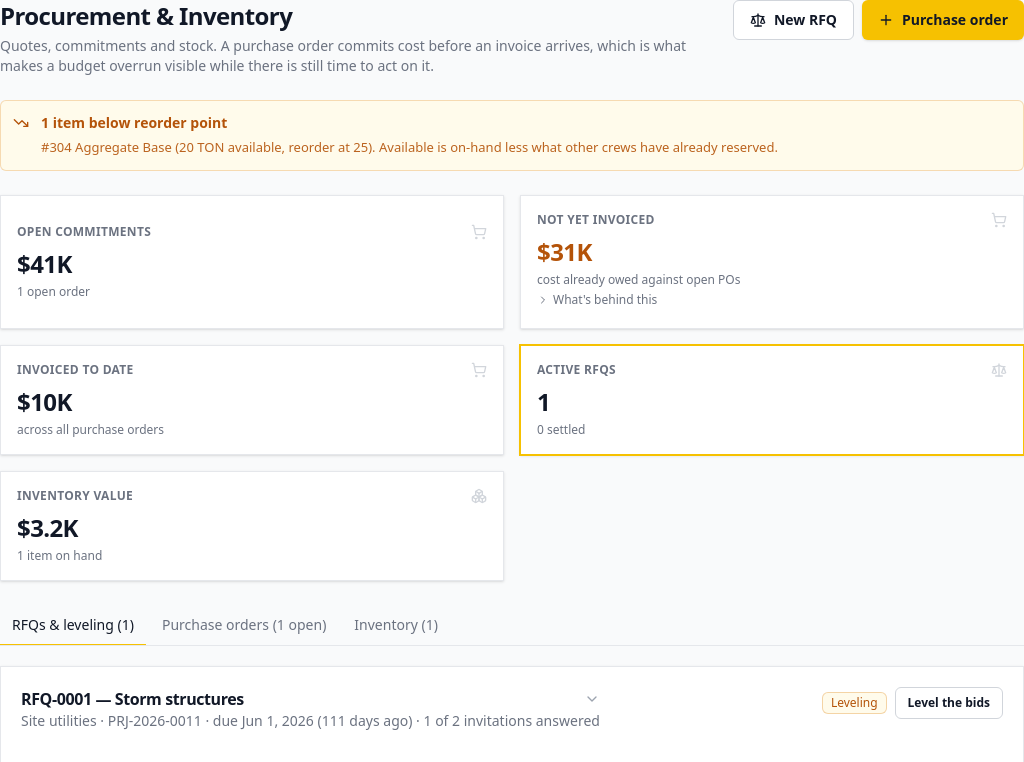
it: what has no writer yet › offers no button that would do nothing
Expected: the button "New RFQ" is enabled, [733,0,854,40]
Click the button "Purchase order" at (943, 20), box [862,0,1023,40]
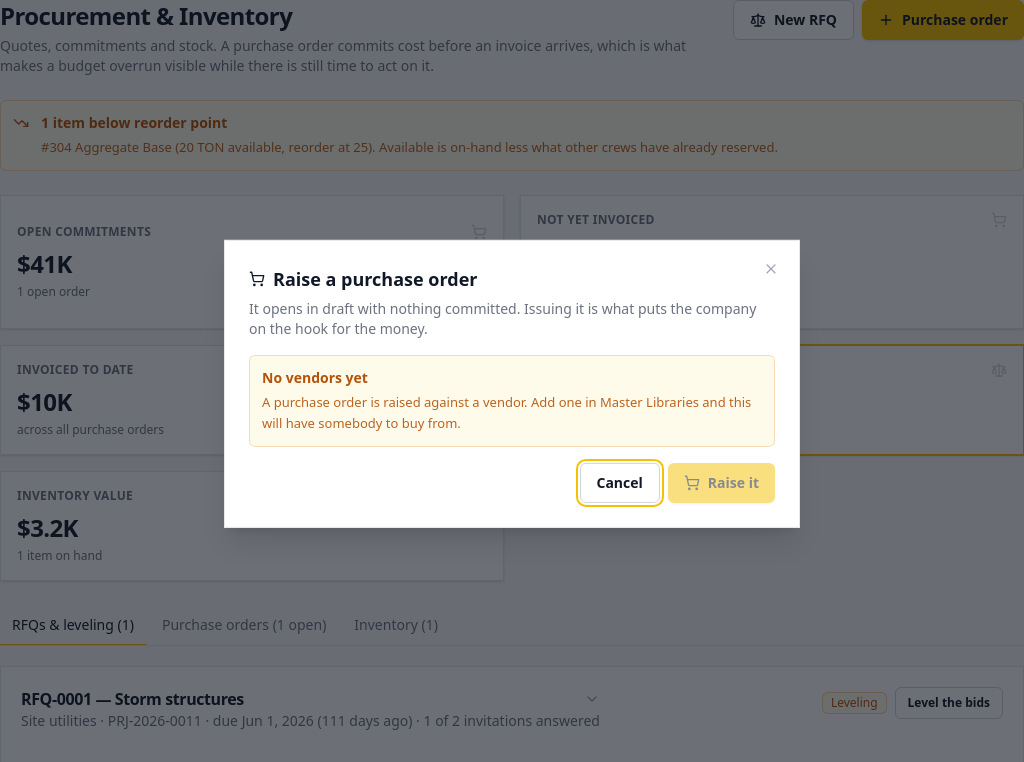
Expected: the dialog is shown, [224,240,800,528]
